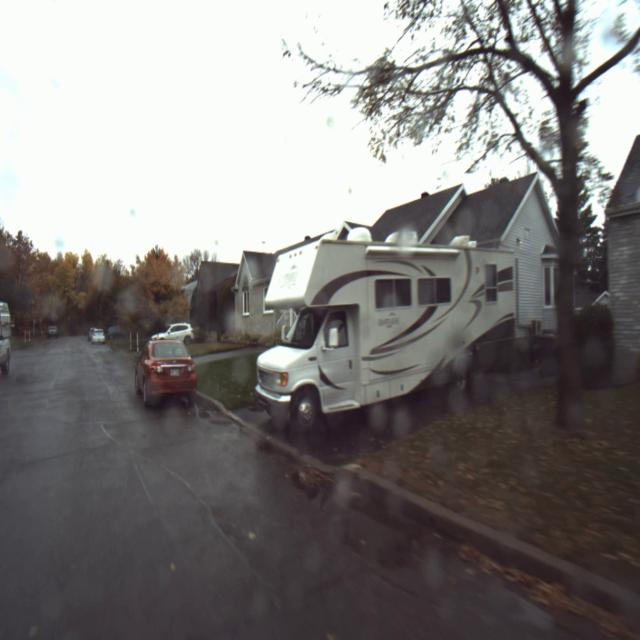car: (123, 323, 207, 421)
